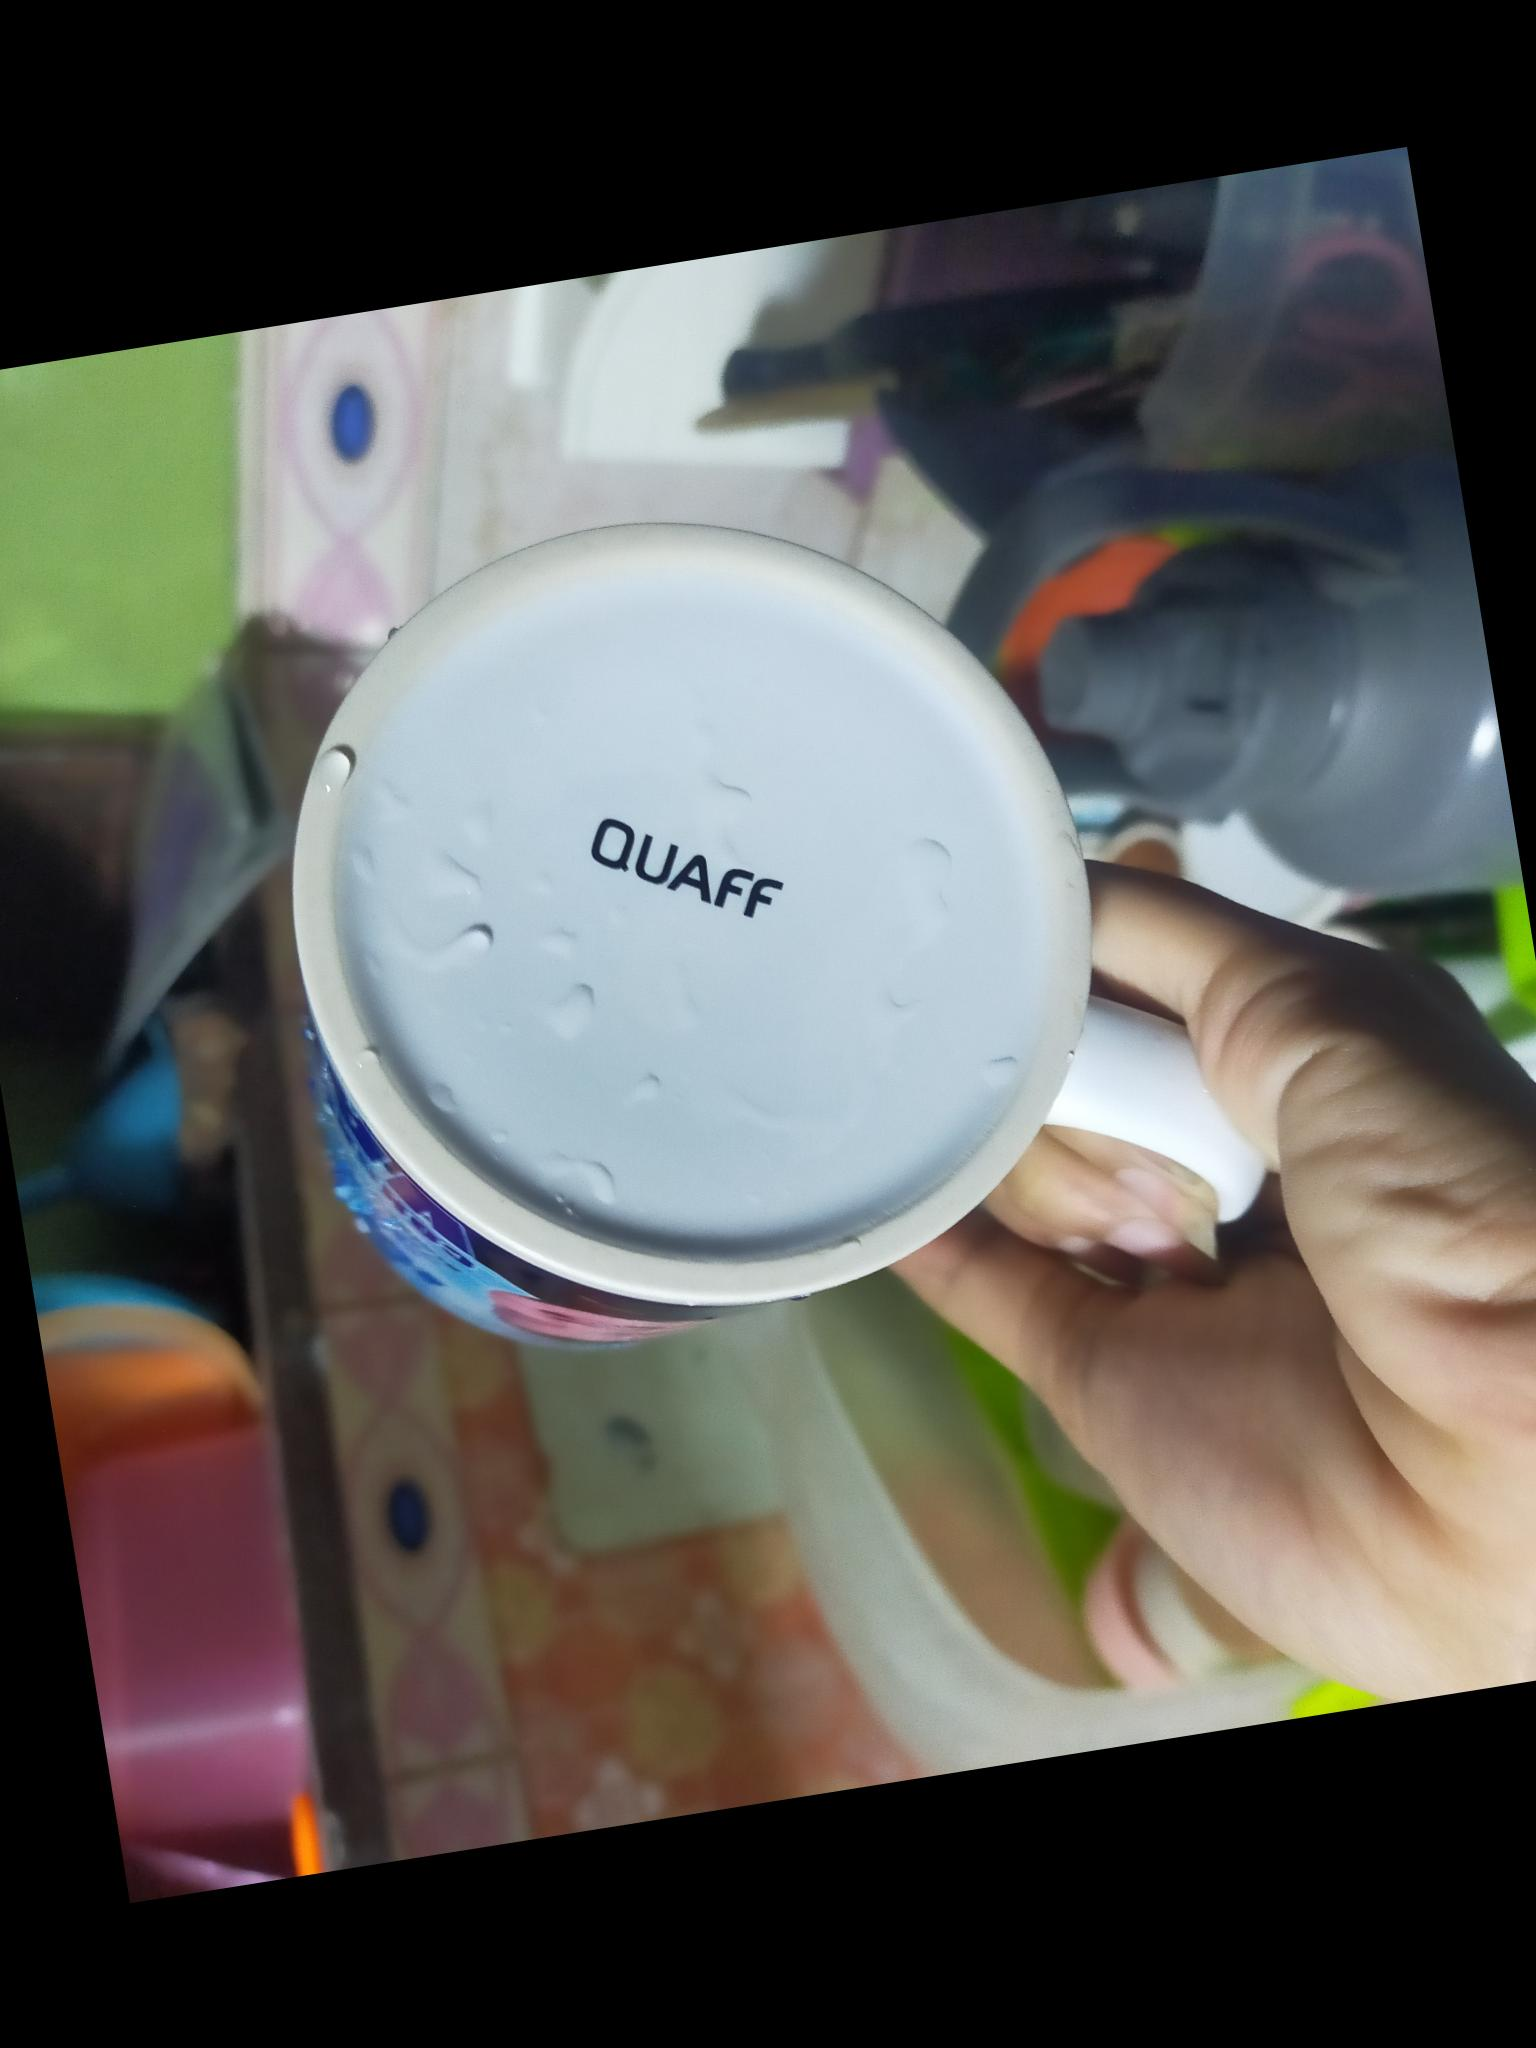Coffee Mug: (242, 448, 1284, 1380)
